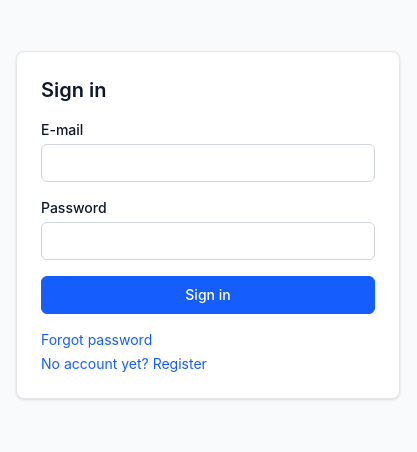
LoginView with two-factor authentication › explains a wrong code and stays on the code step
The width and height of the screenshot is (417, 452).
Type "jana@example.cz" into the field with test id "login-email".
click(208, 163); type("jana@example.cz")  # box [41, 144, 375, 182]
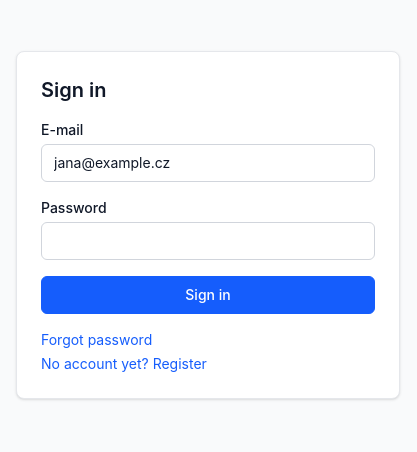
Type "correct horse battery" into the password field with test id "login-password".
click(208, 241); type("correct horse battery")  # box [41, 222, 375, 260]
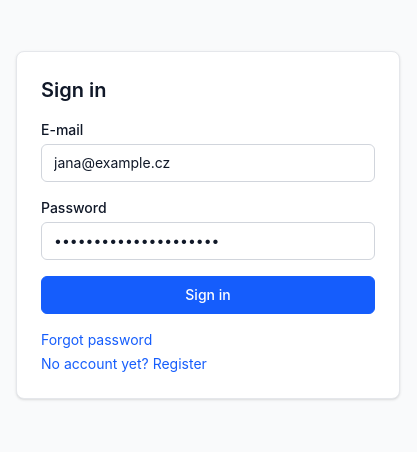
Submit the form, box [41, 120, 375, 314]
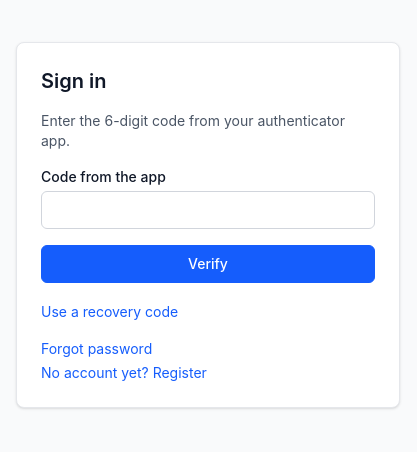
Type "000000" into the field with test id "login-code".
click(208, 210); type("000000")  # box [41, 191, 375, 229]
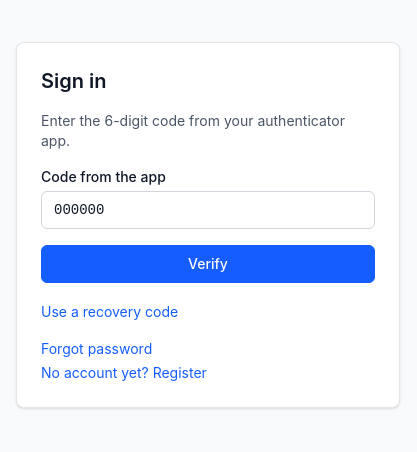
Submit the form with test id "login-code-step", box [41, 111, 375, 323]
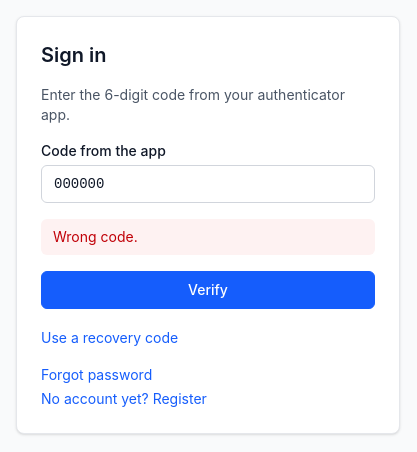
Expected: the message with test id "login-code-error" reads "Wrong code.", [53, 228, 138, 245]
